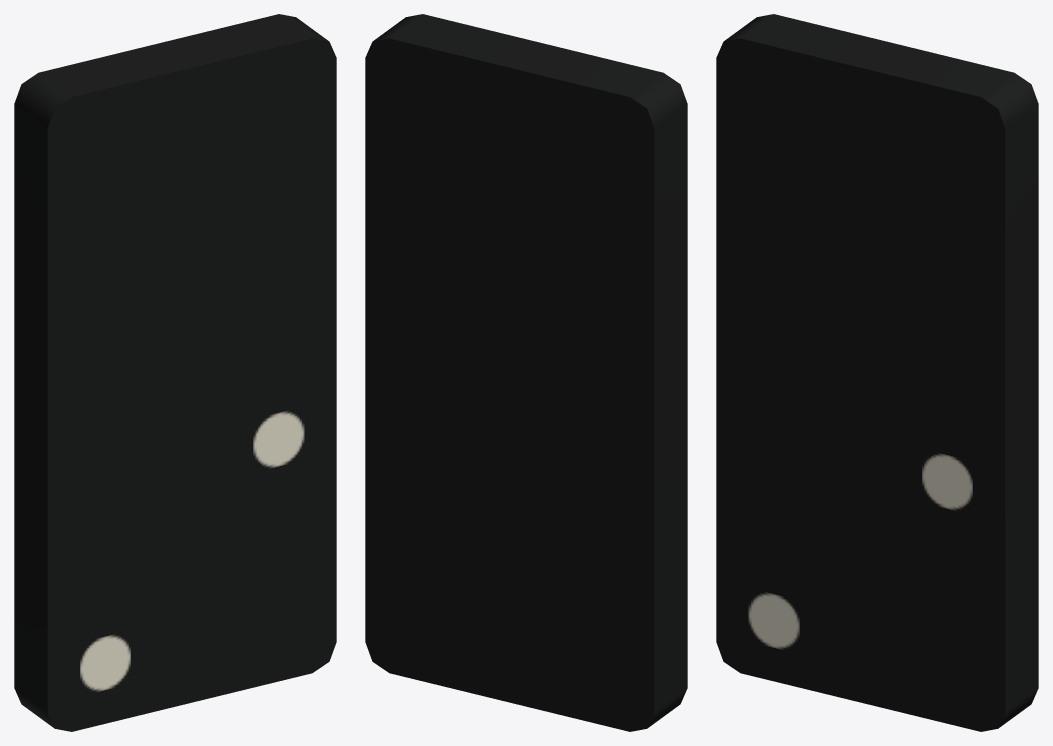
3 views of the same model, side by side, from view 1: azimuth 30°, elevation 25°; view 2: azimuth 150°, elevation 25°; view 3: azimuth 330°, elevation 25° (orthographic).
Visible parts, largest first — view 1: domino_low_02; view 2: domino_low_02; view 3: domino_low_02.
Part boxes in pixels (box(x1,y1,x2,y2)): domino_low_02: box(14, 14, 336, 731); domino_low_02: box(365, 14, 687, 731); domino_low_02: box(716, 14, 1038, 731).
Bounding box in the file's own units: 2 × 4.2 × 0.4.
